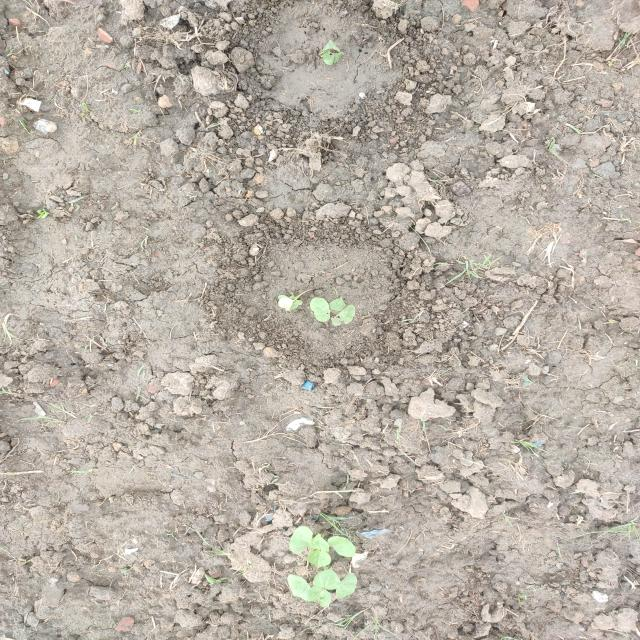seedling_s4: (289, 526, 313, 554), (312, 567, 340, 590), (327, 536, 356, 557), (287, 574, 310, 600), (336, 573, 358, 599), (331, 304, 355, 326), (309, 297, 330, 322), (307, 586, 331, 607), (307, 550, 331, 569), (308, 533, 329, 551), (323, 52, 343, 65), (329, 297, 345, 311), (323, 40, 340, 51)
